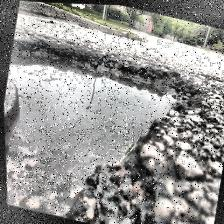pothole: (1, 27, 197, 224)
